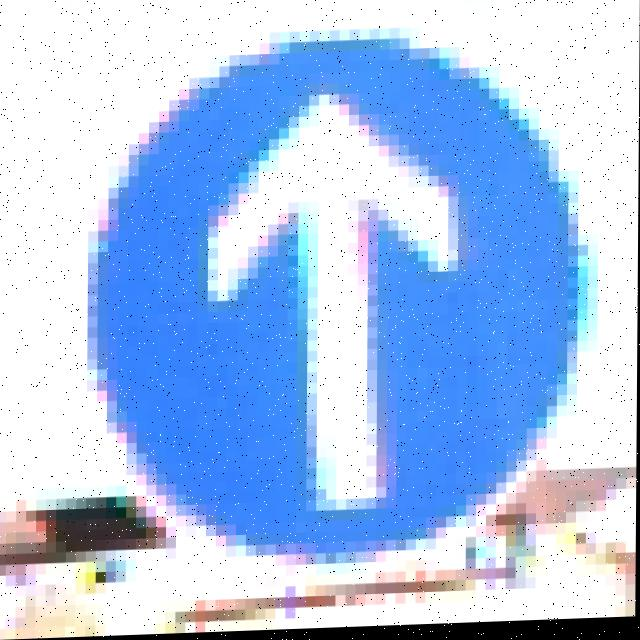compulsory_ahead: (92, 21, 604, 586)
